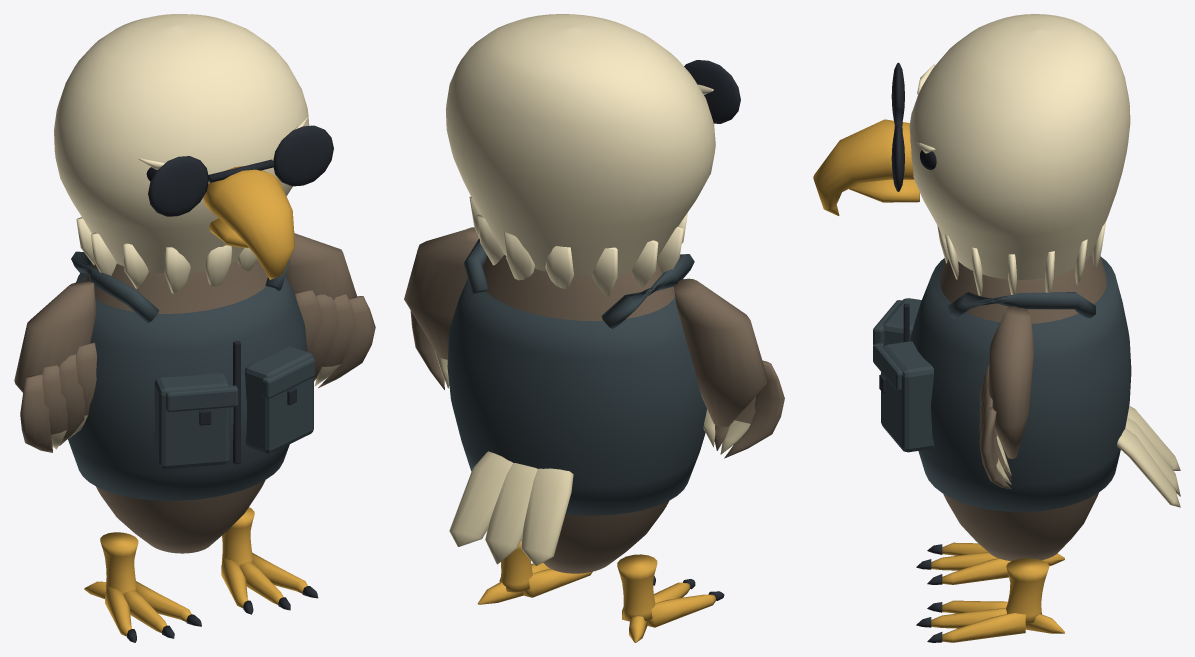
The model's file is eagle.glb.
3 views of the same model, side by side, from view 1: azimuth 30°, elevation 25°; view 2: azimuth 150°, elevation 25°; view 3: azimuth 270°, elevation 25° (orthographic). The views are drawn at different scales.
Visible parts, largest first — view 1: Head_mesh, Gear_Vest_mesh, eagle_body, common_eagle_leftArm_mesh, common_eagle_rightArm_mesh, Gear_Glasses_mesh, LeftFoot_mesh, RightFoot_mesh; view 2: Head_mesh, Gear_Vest_mesh, common_eagle_leftArm_mesh, eagle_body, common_eagle_tail_mesh, common_eagle_rightArm_mesh, LeftFoot_mesh, RightFoot_mesh, Gear_Glasses_mesh; view 3: Head_mesh, Gear_Vest_mesh, eagle_body, common_eagle_rightArm_mesh, RightFoot_mesh, common_eagle_tail_mesh, LeftFoot_mesh, Gear_Glasses_mesh.
Part boxes in pixels (bbox=[...]): Head_mesh: bbox=[54, 14, 309, 293]; Gear_Vest_mesh: bbox=[68, 251, 315, 500]; eagle_body: bbox=[85, 259, 267, 553]; common_eagle_leftArm_mesh: bbox=[14, 281, 96, 452]; common_eagle_rightArm_mesh: bbox=[285, 233, 375, 388]; Gear_Glasses_mesh: bbox=[148, 125, 333, 216]; LeftFoot_mesh: bbox=[84, 532, 201, 642]; RightFoot_mesh: bbox=[221, 507, 318, 614]; Head_mesh: bbox=[446, 14, 715, 296]; Gear_Vest_mesh: bbox=[447, 238, 706, 515]; common_eagle_leftArm_mesh: bbox=[673, 278, 784, 458]; eagle_body: bbox=[482, 255, 675, 573]; common_eagle_tail_mesh: bbox=[449, 451, 573, 565]; common_eagle_rightArm_mesh: bbox=[404, 227, 478, 389]; LeftFoot_mesh: bbox=[617, 554, 724, 642]; RightFoot_mesh: bbox=[477, 541, 592, 604]; Gear_Glasses_mesh: bbox=[684, 60, 740, 123]; Head_mesh: bbox=[813, 14, 1130, 295]; Gear_Vest_mesh: bbox=[873, 257, 1131, 512]; eagle_body: bbox=[940, 253, 1106, 561]; common_eagle_rightArm_mesh: bbox=[979, 306, 1034, 489]; RightFoot_mesh: bbox=[916, 558, 1064, 642]; common_eagle_tail_mesh: bbox=[1117, 406, 1180, 507]; LeftFoot_mesh: bbox=[916, 542, 1064, 584]; Gear_Glasses_mesh: bbox=[891, 62, 904, 191].
Size of the model in its own units: 1.25 by 1.87 by 1.1.
